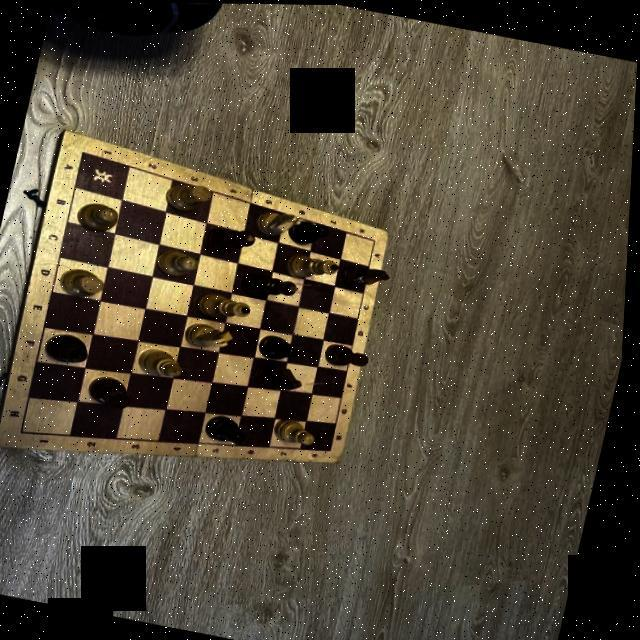chess-table-corners: (19, 425, 33, 436), (370, 232, 382, 244), (328, 443, 342, 453), (78, 146, 91, 156)
